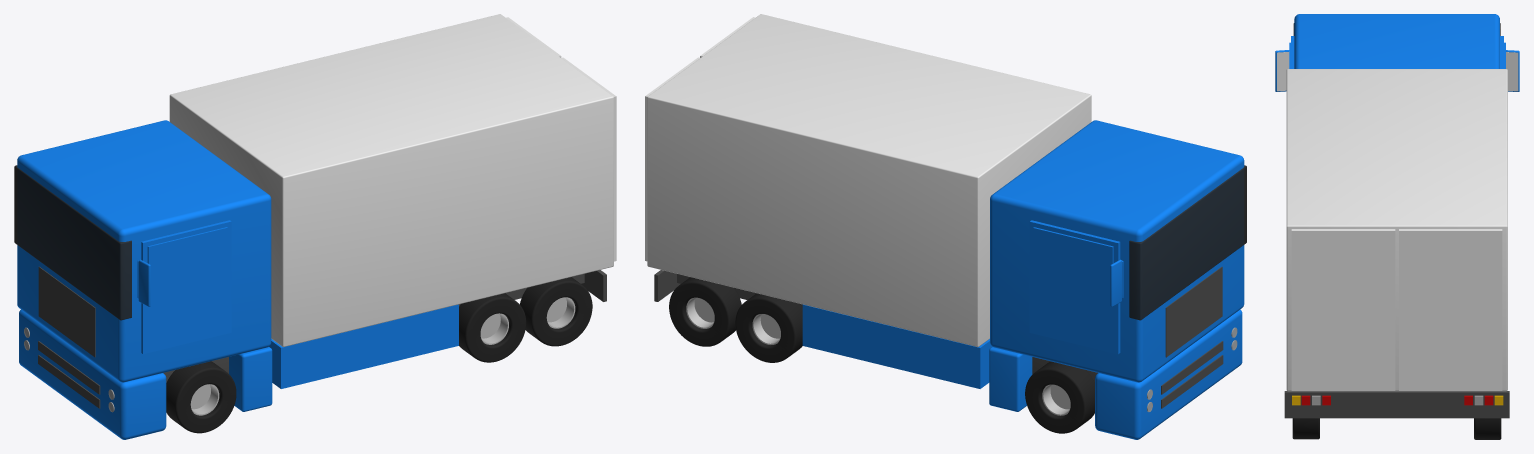
File: car2.obj
3 renders of one model, left to right at view 1: azimuth 30°, elevation 25°; view 2: azimuth 150°, elevation 25°; view 3: azimuth 270°, elevation 25°, orthographic. The views are drawn at different scales.
Visible parts, largest first — view 1: 集装箱, 立方体.2, 前挡风, 立方体.6, 立方体, 立方体.7_1, 立方体.9_1, 轮胎1_5, 轮胎1_1, 轮胎1_3, Cube, 立方体.1 (+4 smaller); view 2: 集装箱, 立方体.2, 前挡风, 立方体.6, 立方体, 立方体.7, 立方体.9, 轮胎1_4, 轮胎1, 轮胎1_2, Cube, 立方体.1 (+4 smaller); view 3: 集装箱, 右门, 左门, 立方体.2, 立方体.4, 轮胎1, 轮胎1_1, 立方体.9_2, 立方体.9_3.
Part boxes in pixels (bbox=[...]): 集装箱: bbox=[169, 14, 613, 346]; 立方体.2: bbox=[17, 120, 271, 382]; 前挡风: bbox=[14, 165, 131, 320]; 立方体.6: bbox=[269, 304, 458, 388]; 立方体: bbox=[19, 309, 166, 439]; 立方体.7_1: bbox=[141, 220, 231, 354]; 立方体.9_1: bbox=[147, 227, 227, 295]; 轮胎1_5: bbox=[166, 361, 236, 433]; 轮胎1_1: bbox=[520, 277, 592, 346]; 轮胎1_3: bbox=[459, 293, 526, 362]; Cube: bbox=[38, 266, 95, 357]; 立方体.1: bbox=[229, 347, 272, 411]; 集装箱: bbox=[647, 14, 1091, 346]; 立方体.2: bbox=[990, 120, 1244, 382]; 前挡风: bbox=[1129, 165, 1246, 320]; 立方体.6: bbox=[802, 304, 992, 388]; 立方体: bbox=[1095, 309, 1242, 439]; 立方体.7: bbox=[1029, 220, 1120, 354]; 立方体.9: bbox=[1033, 227, 1113, 295]; 轮胎1_4: bbox=[1025, 361, 1094, 433]; 轮胎1: bbox=[669, 277, 741, 346]; 轮胎1_2: bbox=[735, 293, 802, 362]; Cube: bbox=[1165, 266, 1222, 357]; 立方体.1: bbox=[989, 347, 1032, 411]; 集装箱: bbox=[1286, 69, 1507, 391]; 右门: bbox=[1291, 229, 1395, 390]; 左门: bbox=[1399, 229, 1502, 390]; 立方体.2: bbox=[1294, 14, 1499, 68]; 立方体.4: bbox=[1284, 391, 1509, 418]; 轮胎1: bbox=[1474, 418, 1501, 439]; 轮胎1_1: bbox=[1292, 418, 1319, 439]; 立方体.9_2: bbox=[1506, 52, 1518, 91]; 立方体.9_3: bbox=[1277, 52, 1289, 91].
Size of the model in its own units: 16236 by 7533 by 7140.
